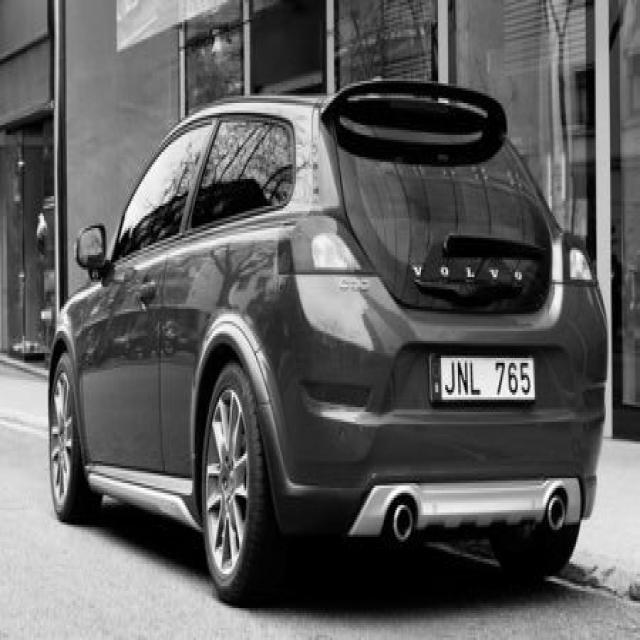car: (46, 76, 608, 603)
plat_license: (428, 350, 536, 404)
